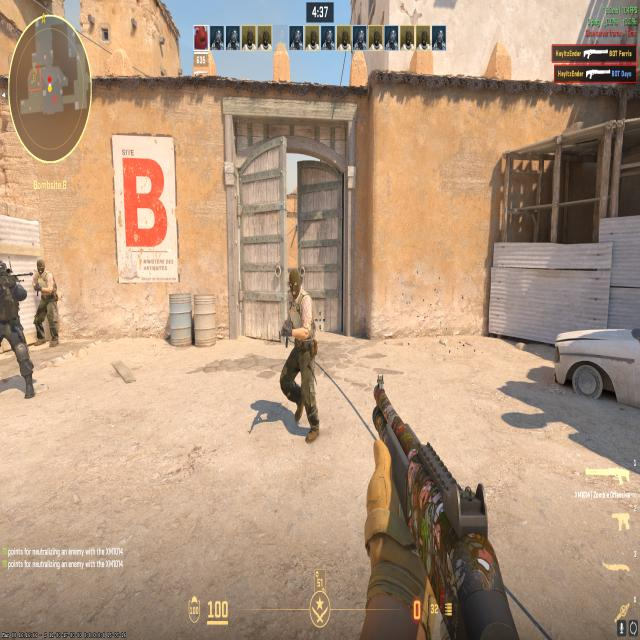ct: (0, 256, 39, 412)
t: (268, 264, 328, 454), (28, 255, 60, 352)
